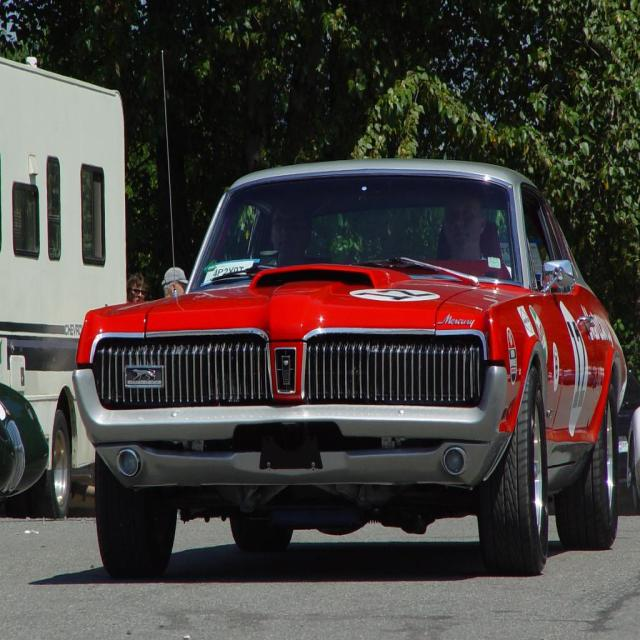car: (74, 167, 627, 576)
